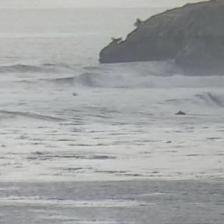surfer: (176, 110, 186, 115)
